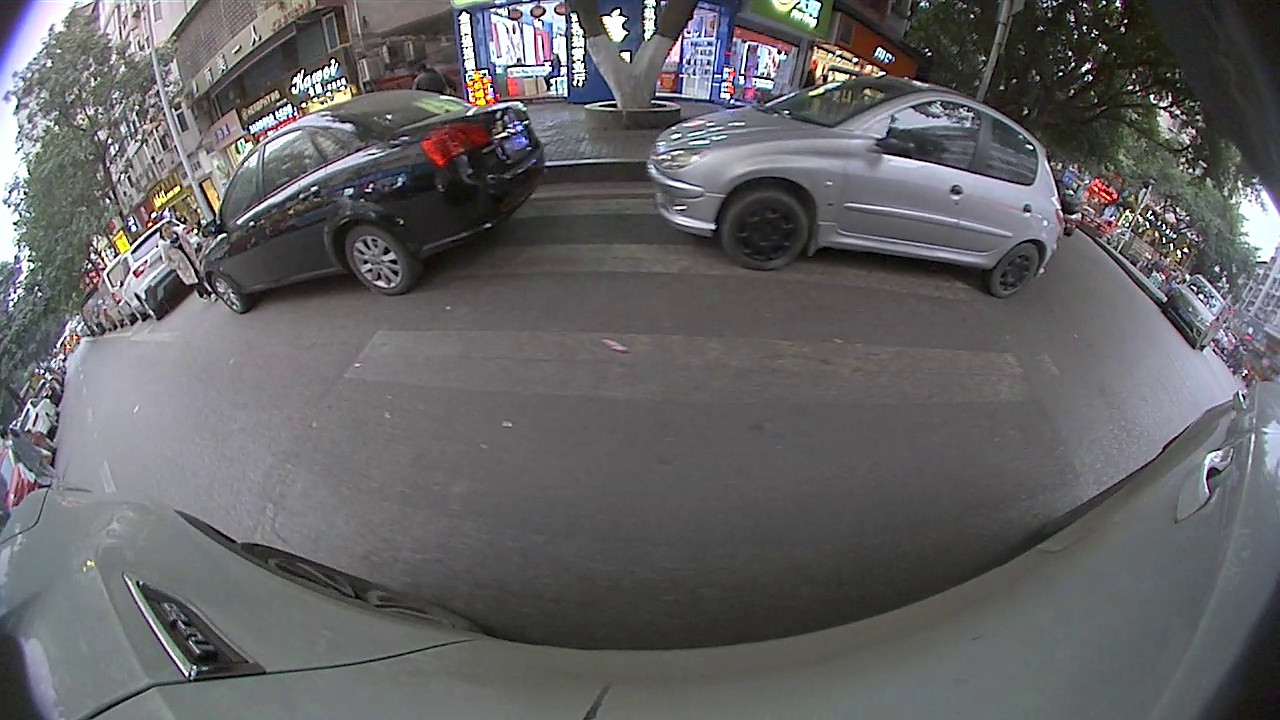car: (649, 77, 1066, 300), (200, 91, 547, 316), (121, 221, 195, 322), (1159, 274, 1226, 349), (2, 425, 46, 515)
front: (723, 187, 806, 270), (207, 270, 243, 313)
person: (163, 225, 189, 307), (7, 430, 31, 497), (410, 63, 449, 97)
rear: (341, 228, 411, 293), (996, 240, 1043, 293)
